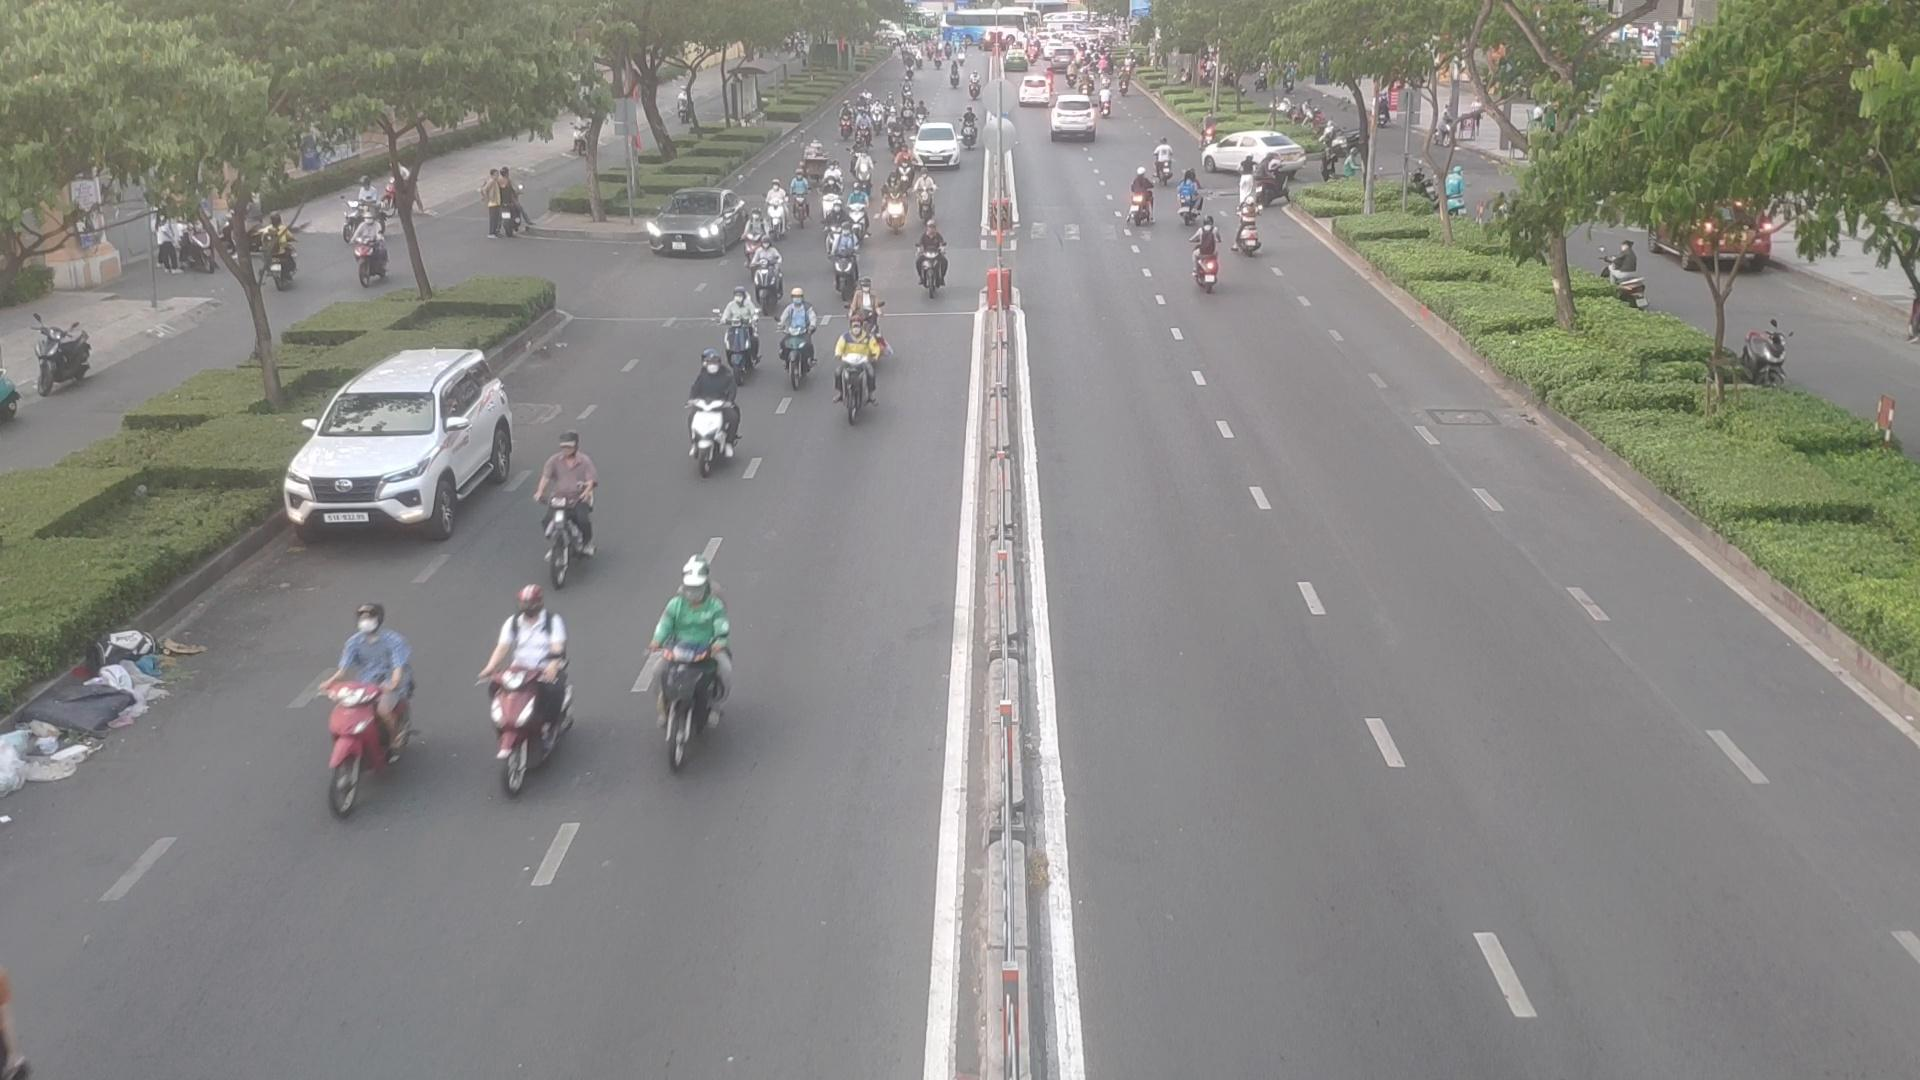car: (282, 344, 527, 538), (645, 193, 750, 261), (1199, 131, 1307, 177), (913, 124, 963, 167)
motorbike: (297, 615, 429, 820), (491, 589, 585, 796), (642, 549, 724, 769), (524, 430, 596, 575), (684, 343, 732, 484), (719, 285, 760, 375), (837, 320, 873, 415), (781, 286, 810, 388), (1189, 220, 1218, 291), (752, 243, 781, 310), (919, 223, 943, 295), (1130, 164, 1158, 218), (913, 170, 940, 222), (832, 233, 857, 290), (884, 174, 905, 237), (1180, 171, 1207, 222), (1151, 136, 1176, 189), (790, 173, 814, 227), (766, 181, 787, 231), (1236, 200, 1255, 247), (895, 152, 916, 186), (851, 189, 866, 233), (858, 150, 878, 182), (822, 179, 836, 218)
